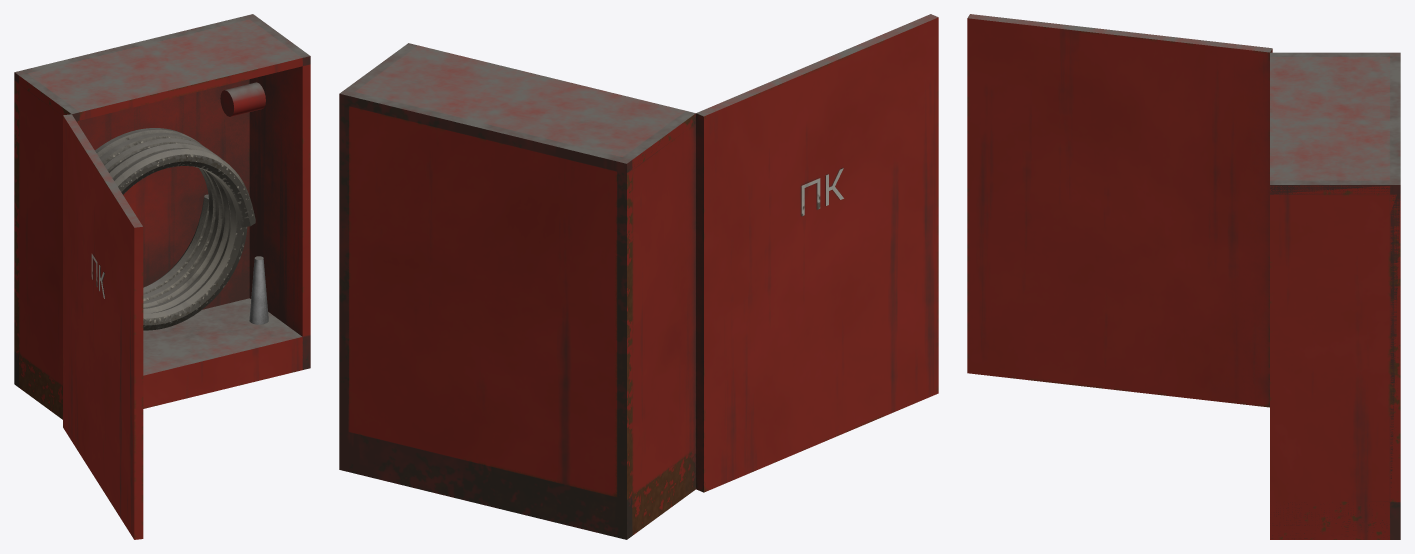
File: SM_FireHoseCabinet.fbx
3 renders of one model, left to right at view 1: azimuth 30°, elevation 25°; view 2: azimuth 150°, elevation 25°; view 3: azimuth 270°, elevation 25°, orthographic. The views are drawn at different scales.
Parts seen in each view (by area): view 1: SM_FireHoseCabinet; view 2: SM_FireHoseCabinet; view 3: SM_FireHoseCabinet.
Boxes of the visible parts, x1,y1,x2,y2 form: SM_FireHoseCabinet: (14, 14, 310, 539); SM_FireHoseCabinet: (339, 14, 938, 539); SM_FireHoseCabinet: (967, 14, 1400, 539).
Size of the model in its own units: 0.7746 by 0.75 by 0.8296.
1 material, 1 textured.
